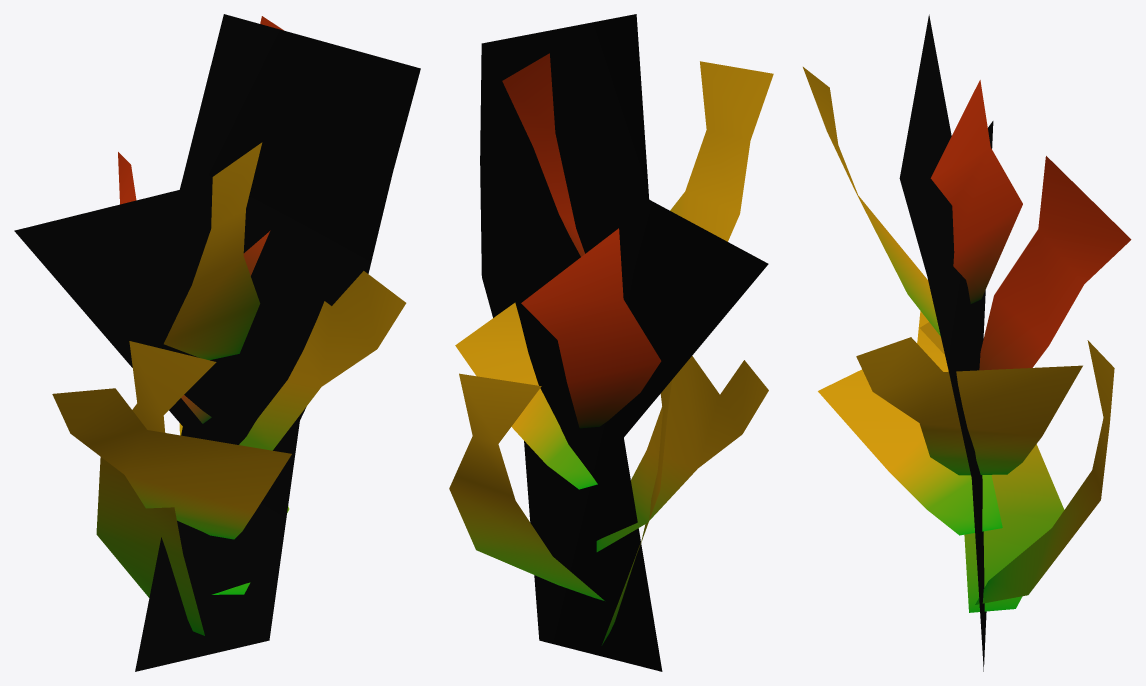
The model's file is Var4Hi28.fbx.
3 views of the same model, side by side, from view 1: azimuth 30°, elevation 25°; view 2: azimuth 150°, elevation 25°; view 3: azimuth 270°, elevation 25° (orthographic). The views are drawn at different scales.
Parts seen in each view (by area): view 1: bend1; view 2: bend1; view 3: bend1.
Part boxes in pixels (<box>): bend1: <box>14,14,420,671</box>; bend1: <box>449,14,773,671</box>; bend1: <box>803,14,1131,671</box>.
Bounding box in the file's own units: 1.3 × 2.32 × 1.11.
